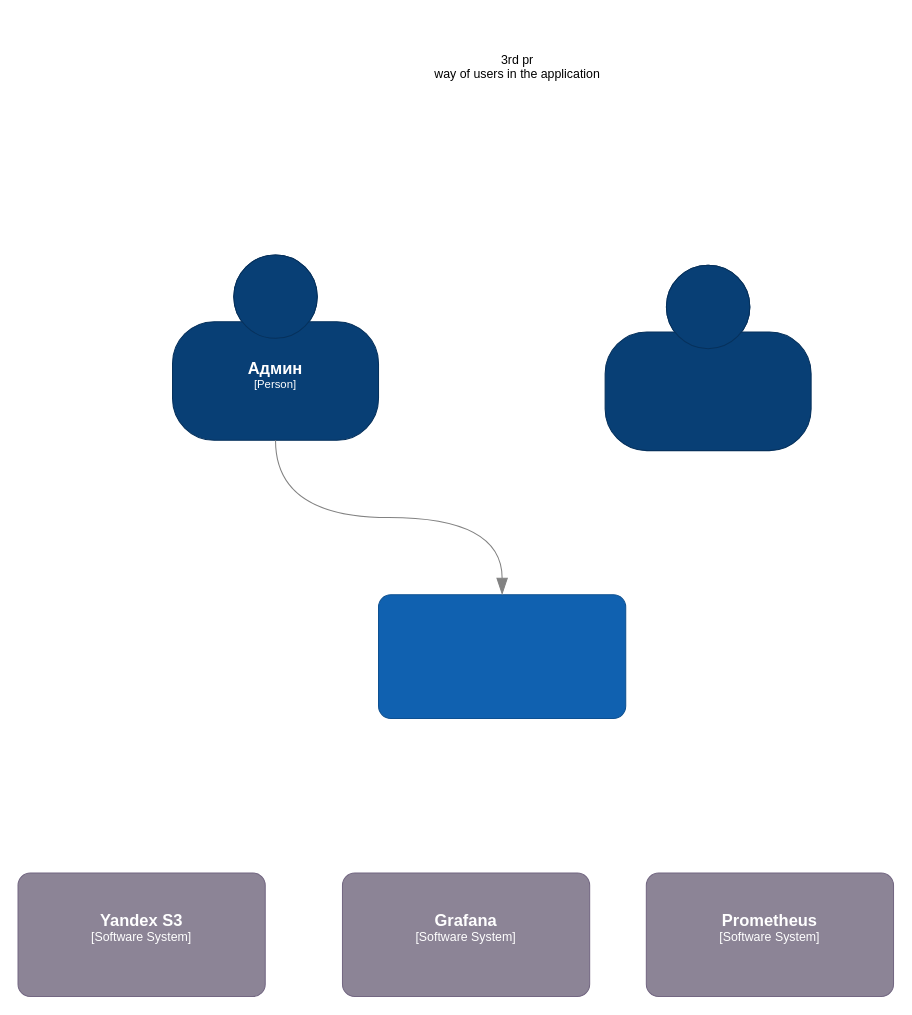
Some shapes in this 912 by 1015 pixel diagram are drawn without their labels. The shapes that lost their labels are listed below. From the top down, each one's box as (x1, y1, x2, y2) in pixels, then its label:
(604, 264, 811, 451): Полбзователь [Person]
(377, 594, 626, 718): Система интернет-магазина [Software System]
